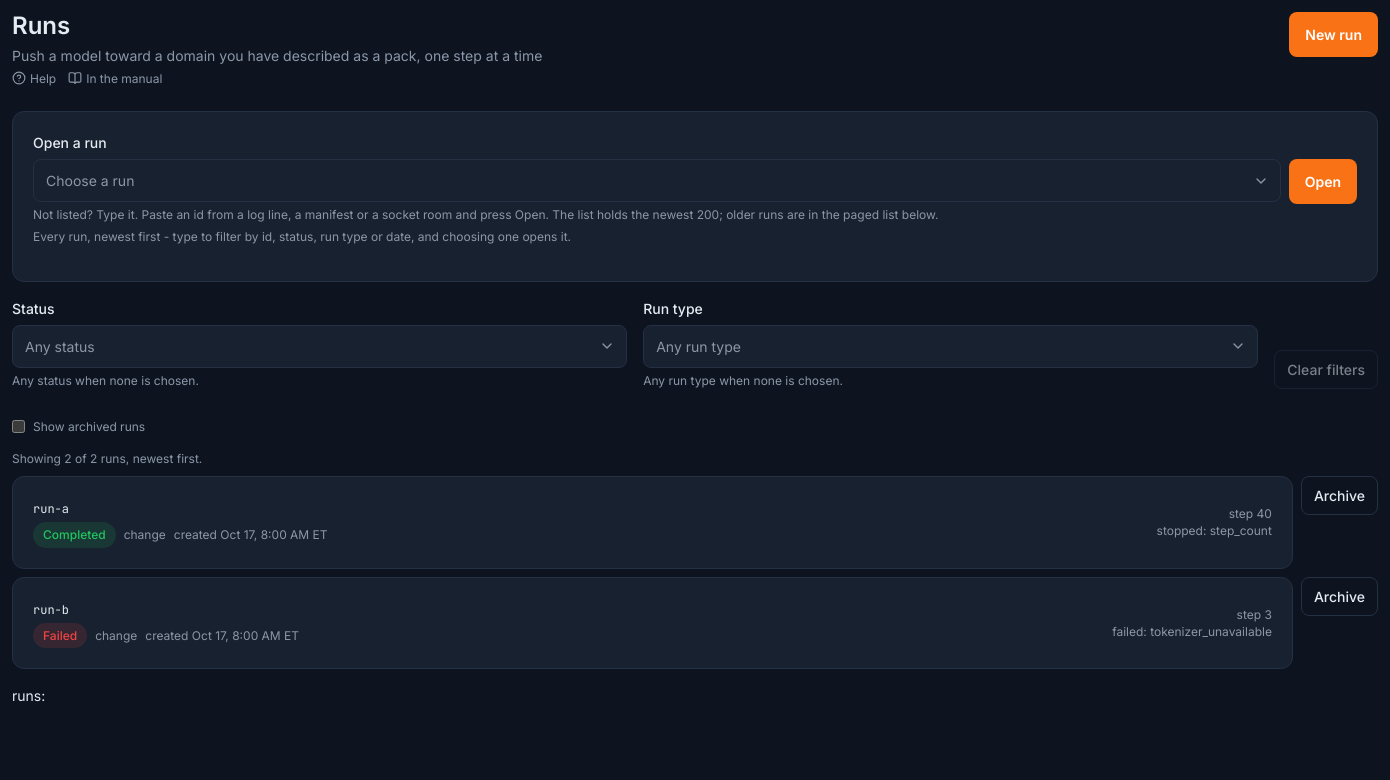
[RunIndexPage] › should never let a slower answer to an older filter replace a newer one (M50)
Check: the button with test id "run-list-row-run-b" is shown, box [12,576,1293,669]
Click the dropdown with test id "run-filter-status" at coordinates (320, 346), box [12,325,627,368]
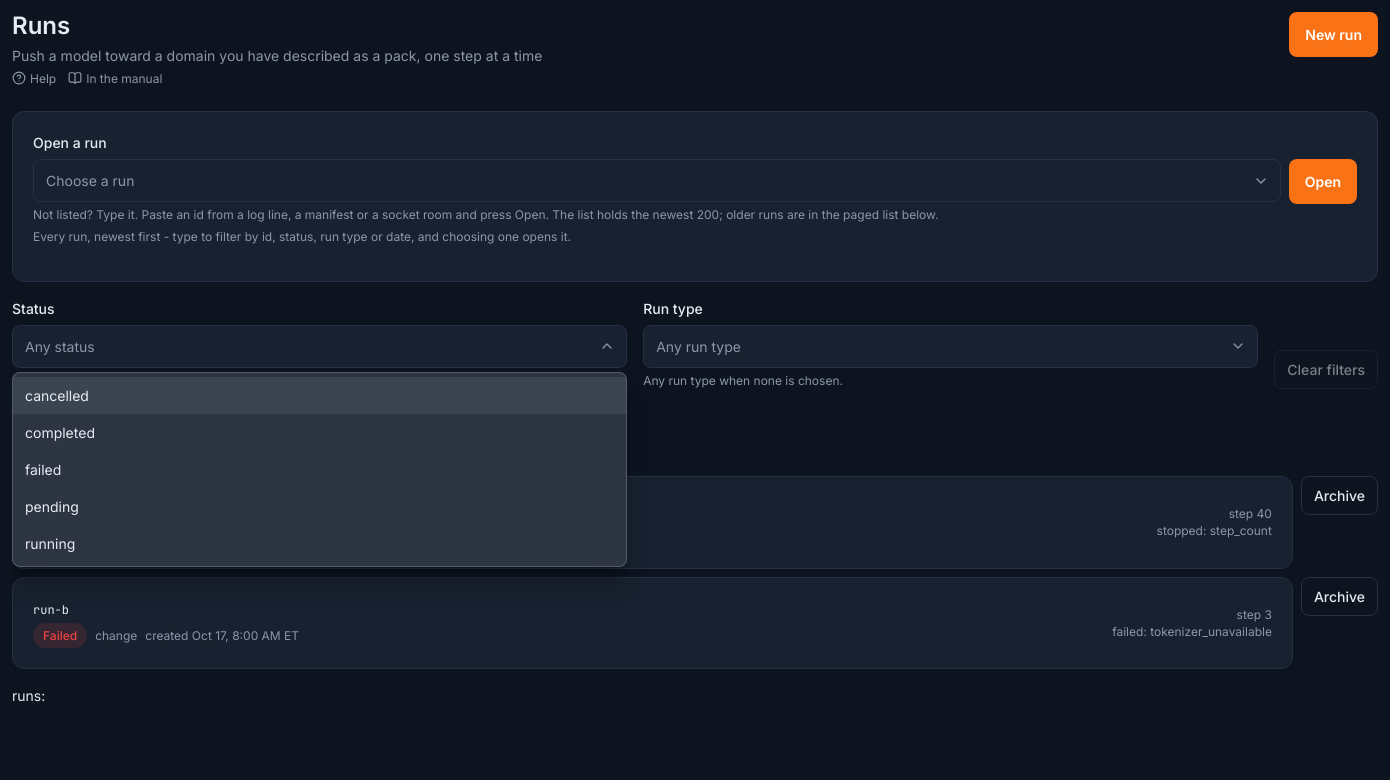
Press the mouse on the option "failed" at coordinates (43, 470), box [25,461,61,478]
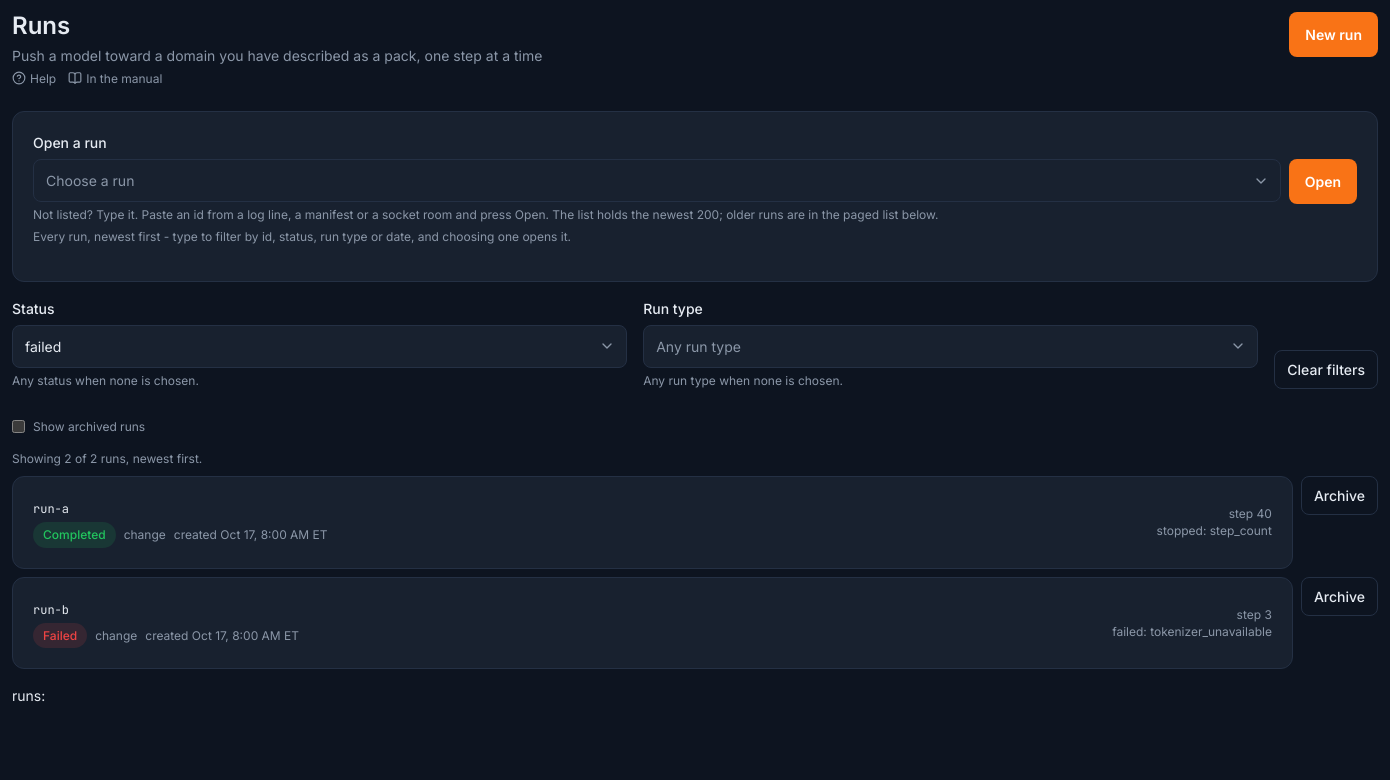
Click the dropdown with test id "run-filter-status" at coordinates (320, 346), box [12,325,627,368]
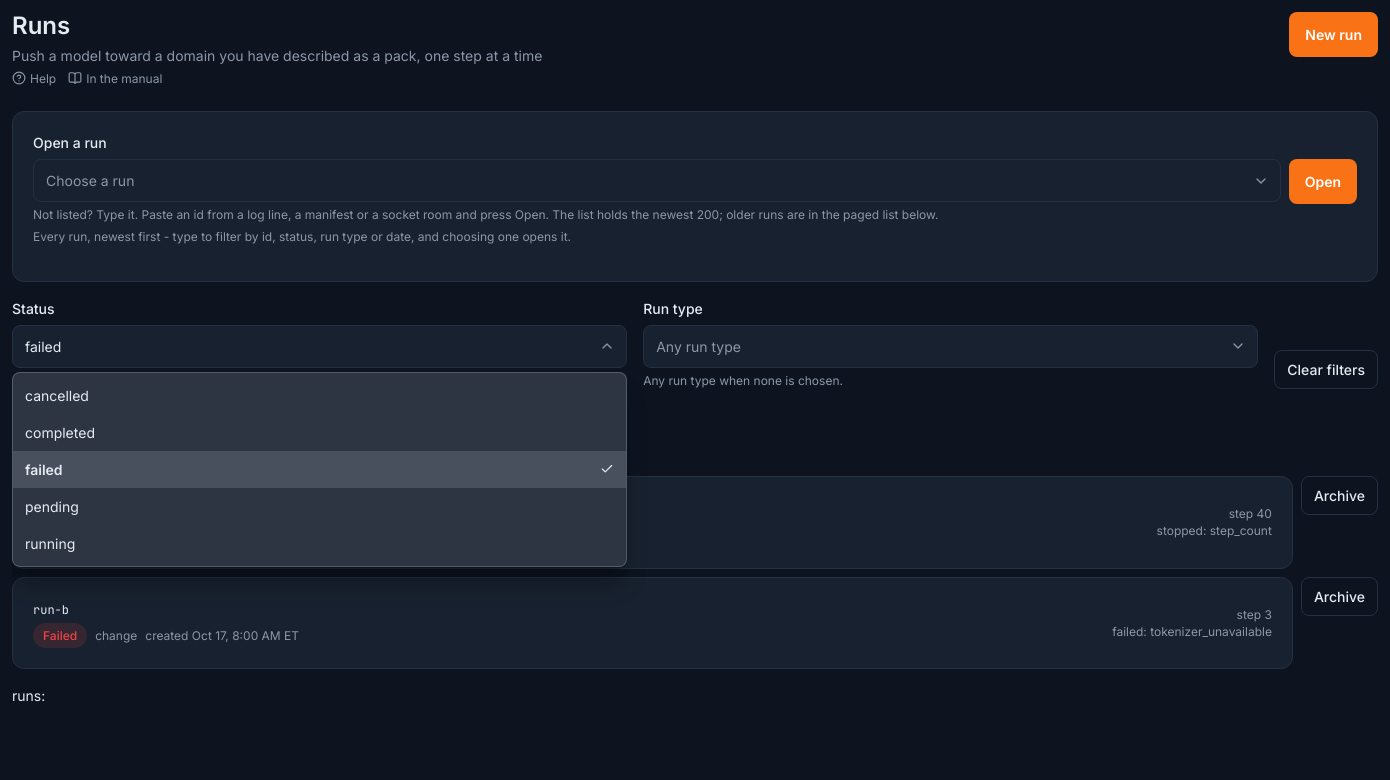
Press the mouse on the option "completed" at coordinates (60, 432), box [25,424,95,441]
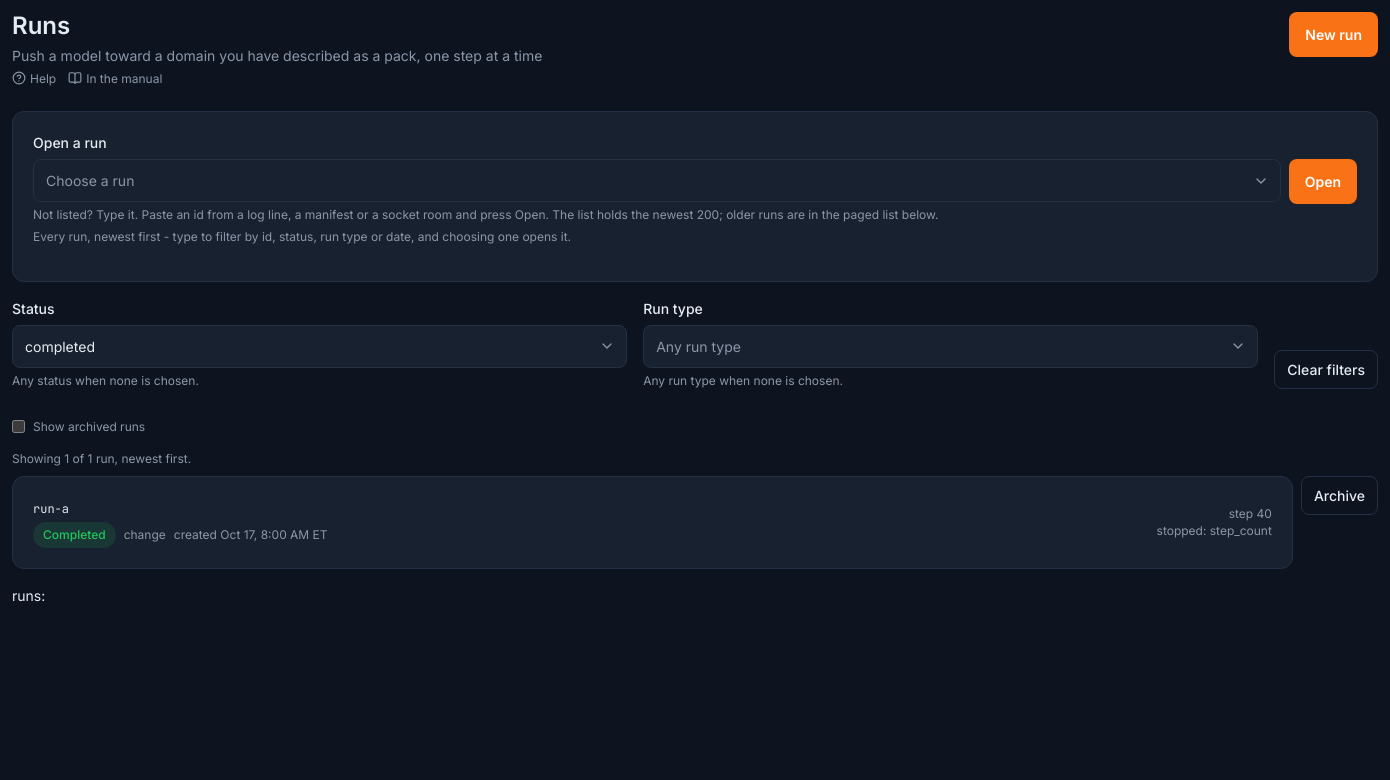
Check: the button with test id "run-list-row-run-a" is shown, box [12,476,1293,569]
Check: the button with test id "run-list-row-run-b" is gone
